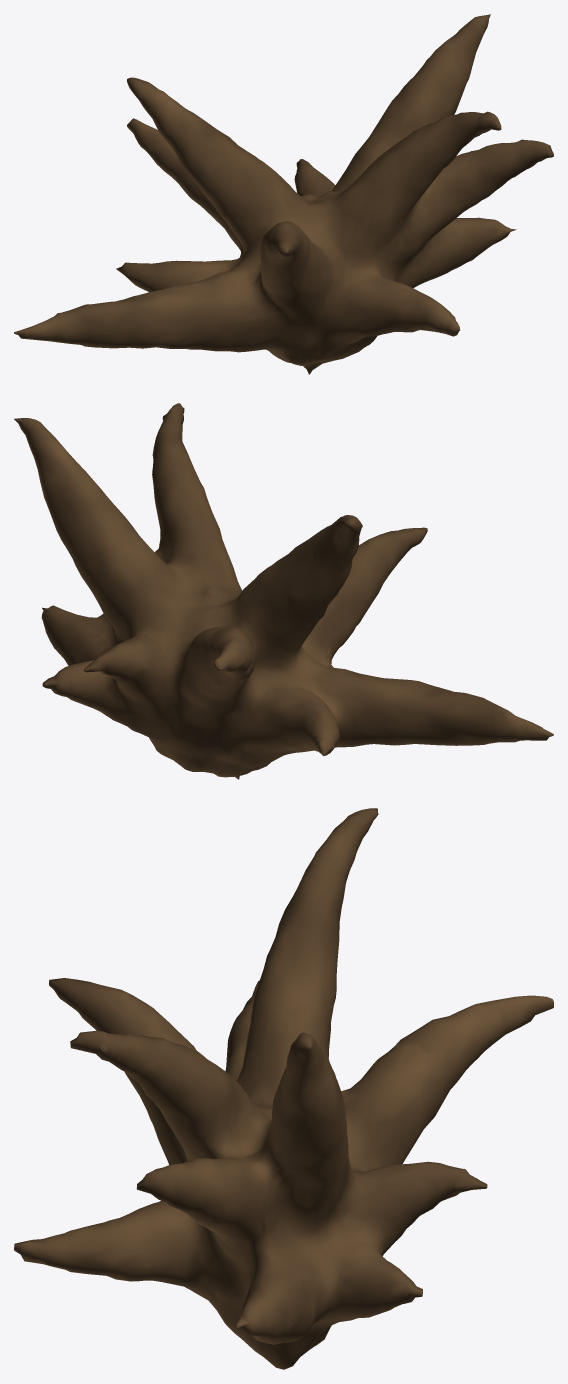
File: mopani-desktop.glb
The picture shows the model from 3 angles, top to bottom: view 1: azimuth 30°, elevation 25°; view 2: azimuth 150°, elevation 25°; view 3: azimuth 270°, elevation 25°; orthographic projection. The views are drawn at different scales.
Visible parts, largest first — view 1: mopani; view 2: mopani; view 3: mopani.
Part boxes in pixels (x1,y1,x2,y2): mopani: (14,14,553,374); mopani: (14,403,553,779); mopani: (14,808,553,1369).
Size of the model in its own units: 1.24 by 0.7299 by 0.82.
